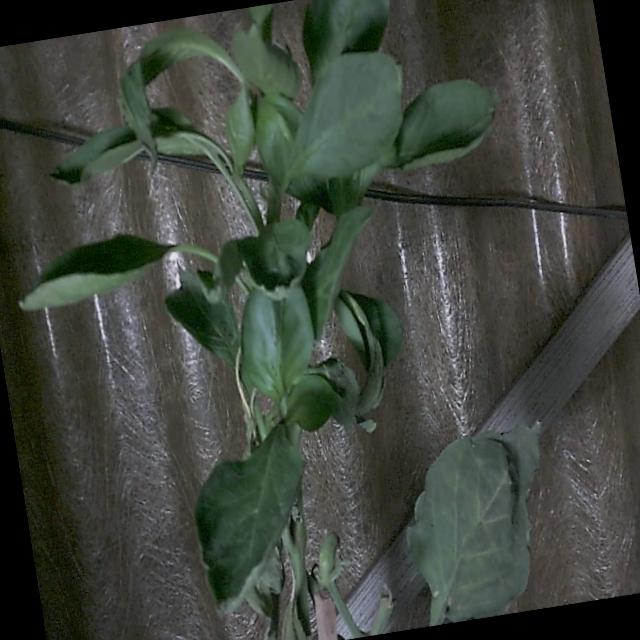Leaf: (407, 426, 539, 625), (195, 424, 303, 608), (285, 53, 401, 181), (19, 235, 170, 310), (391, 79, 495, 169), (302, 207, 372, 338), (241, 287, 313, 402), (302, 0, 389, 80), (231, 25, 300, 98)
